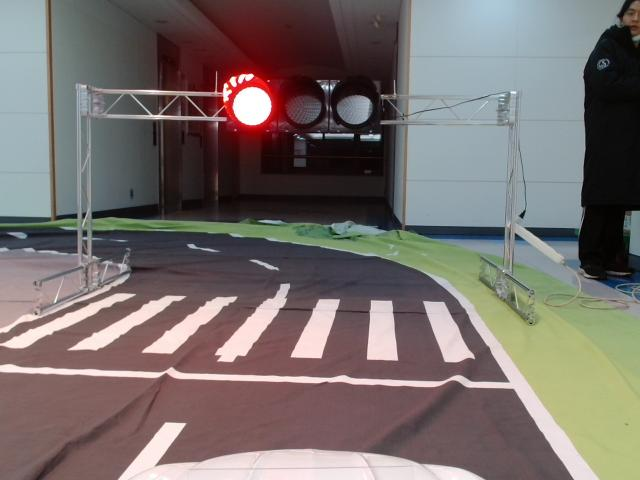crosswalk: (1, 292, 477, 364)
traffic light-red-: (224, 75, 382, 133)
